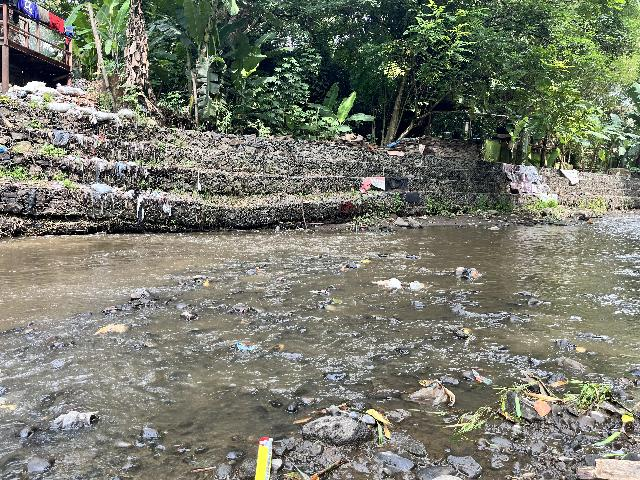Sampah Anorganik: (251, 433, 275, 480), (408, 381, 454, 405), (457, 263, 482, 279), (228, 340, 256, 352), (372, 280, 404, 290), (472, 372, 492, 383), (406, 282, 424, 292), (312, 289, 331, 296), (359, 259, 372, 263), (276, 277, 284, 281)
Sampah Organik: (503, 377, 609, 420), (297, 406, 391, 443), (580, 455, 640, 480), (442, 409, 490, 439), (250, 285, 288, 301), (88, 325, 125, 334), (324, 297, 345, 310), (307, 316, 337, 325), (267, 339, 285, 353), (460, 325, 473, 340), (571, 345, 587, 354), (188, 467, 216, 472), (239, 303, 251, 314), (97, 307, 118, 313), (204, 281, 211, 287), (339, 267, 346, 272), (255, 267, 262, 272)
